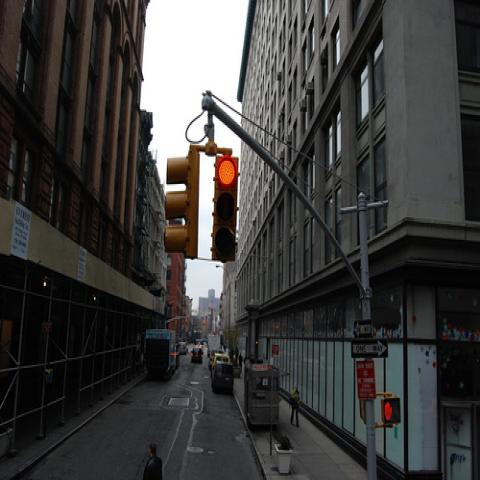car: (210, 360, 235, 394), (211, 353, 231, 371), (208, 348, 224, 370), (190, 347, 204, 364), (179, 342, 189, 355)
truck: (143, 328, 180, 380), (210, 360, 236, 394), (207, 335, 221, 358)
